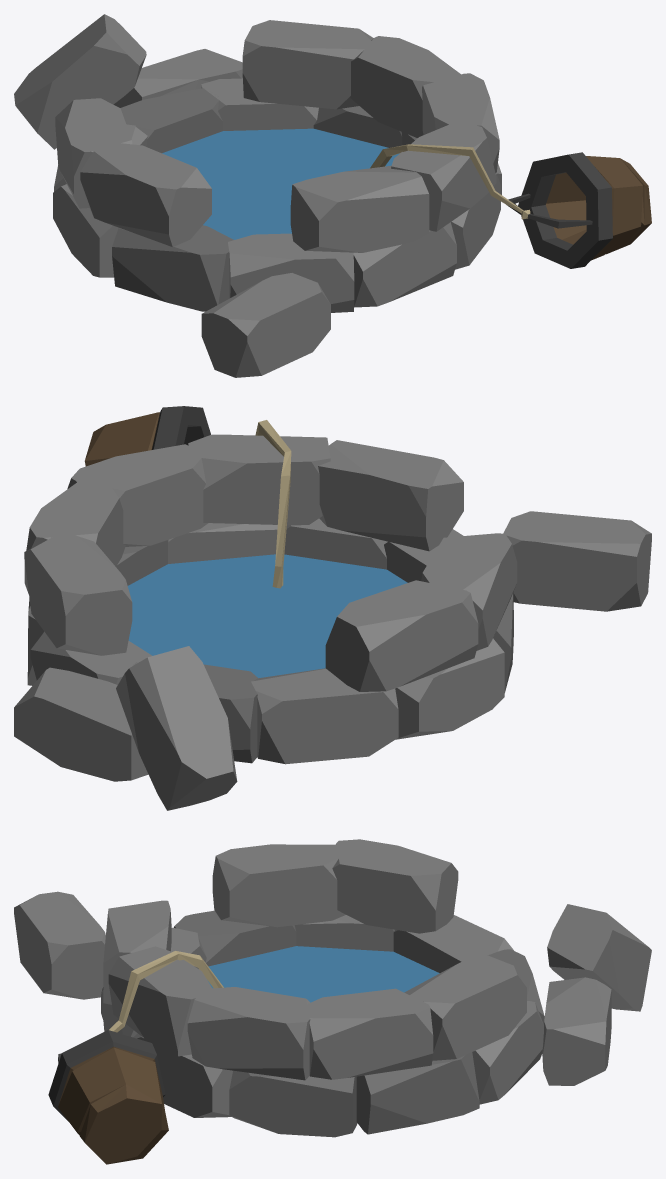
Rendered from well_02.FBX.
3 views of the same model, one above another, from view 1: azimuth 30°, elevation 25°; view 2: azimuth 150°, elevation 25°; view 3: azimuth 270°, elevation 25° (orthographic). The views are drawn at different scales.
Parts seen in each view (by area): view 1: Well_02; view 2: Well_02; view 3: Well_02.
Part boxes in pixels (<box>): Well_02: <box>14,14,651,377</box>; Well_02: <box>14,406,651,810</box>; Well_02: <box>14,839,651,1164</box>.
Size of the model in its own units: 4.15 by 1.06 by 4.97.
